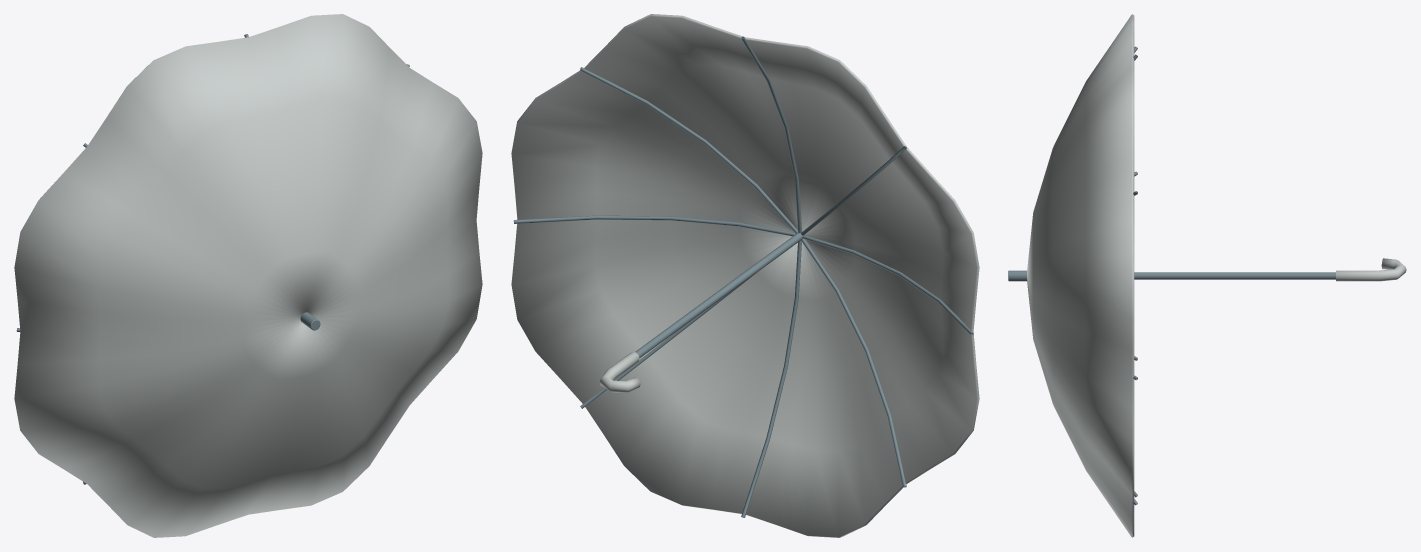
The model's file is umbrella.glb.
3 views of the same model, side by side, from view 1: azimuth 30°, elevation 25°; view 2: azimuth 150°, elevation 25°; view 3: azimuth 270°, elevation 25° (orthographic). The views are drawn at different scales.
Visible parts, largest first — view 1: canopy; view 2: canopy, shaft, rib_6, rib_4, rib_7, rib_3, hook, rib_2, rib_0, rib_5, rib_1; view 3: canopy, shaft, hook.
Part boxes in pixels (left/top/right/bottom): canopy: left=14, top=14, right=482, bottom=537; canopy: left=511, top=14, right=979, bottom=537; shaft: left=635, top=232, right=802, bottom=357; rib_6: left=741, top=240, right=801, bottom=517; rib_4: left=513, top=215, right=795, bottom=236; rib_7: left=801, top=239, right=906, bottom=487; rib_3: left=580, top=67, right=797, bottom=233; hook: left=599, top=352, right=640, bottom=392; rib_2: left=741, top=36, right=801, bottom=233; rib_0: left=802, top=235, right=973, bottom=335; rib_5: left=580, top=274, right=754, bottom=408; rib_1: left=801, top=146, right=906, bottom=235; canopy: left=1027, top=14, right=1134, bottom=537; shaft: left=1134, top=272, right=1335, bottom=279; hook: left=1336, top=258, right=1406, bottom=281.
Bounding box in the file's own units: 1.08 × 1.08 × 0.869.
